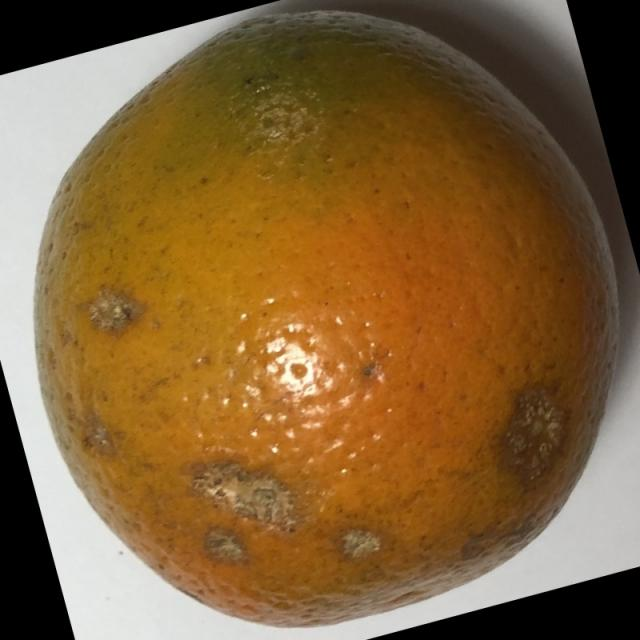canker: (14, 6, 628, 632)
